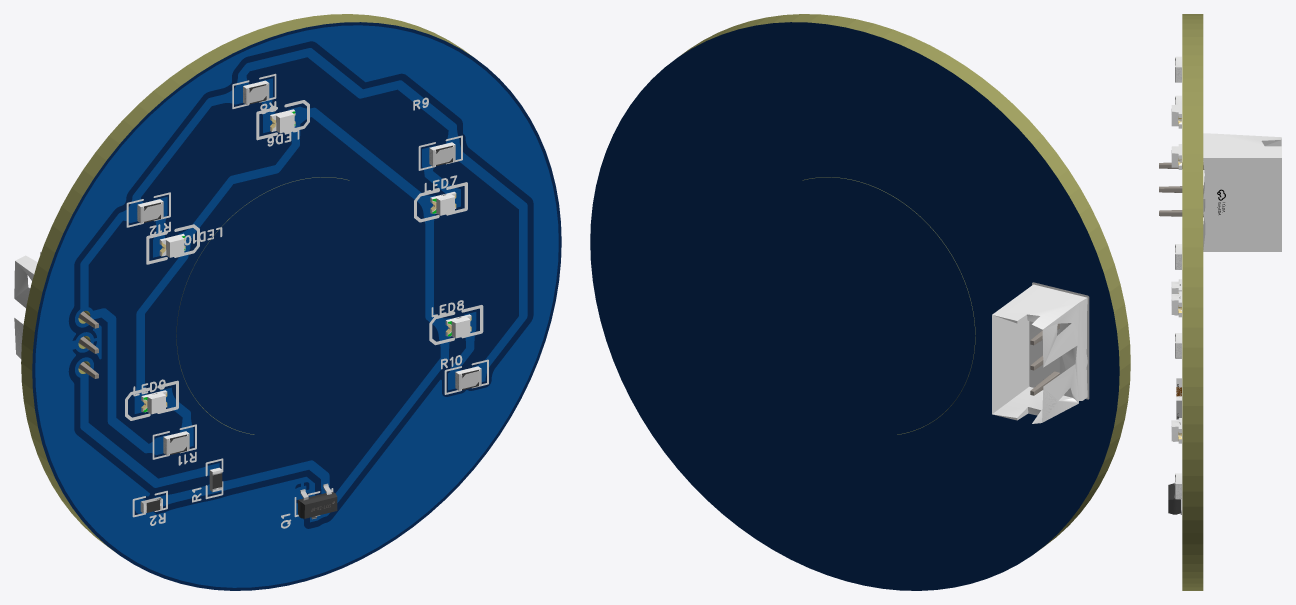
Rendered from ledmeteran-3d.obj.
3 renders of one model, left to right at view 1: azimuth 30°, elevation 25°; view 2: azimuth 150°, elevation 25°; view 3: azimuth 270°, elevation 25°, orthographic. The views are drawn at different scales.
Bounding box in the file's own units: 43.97 × 43.95 × 9.37.
